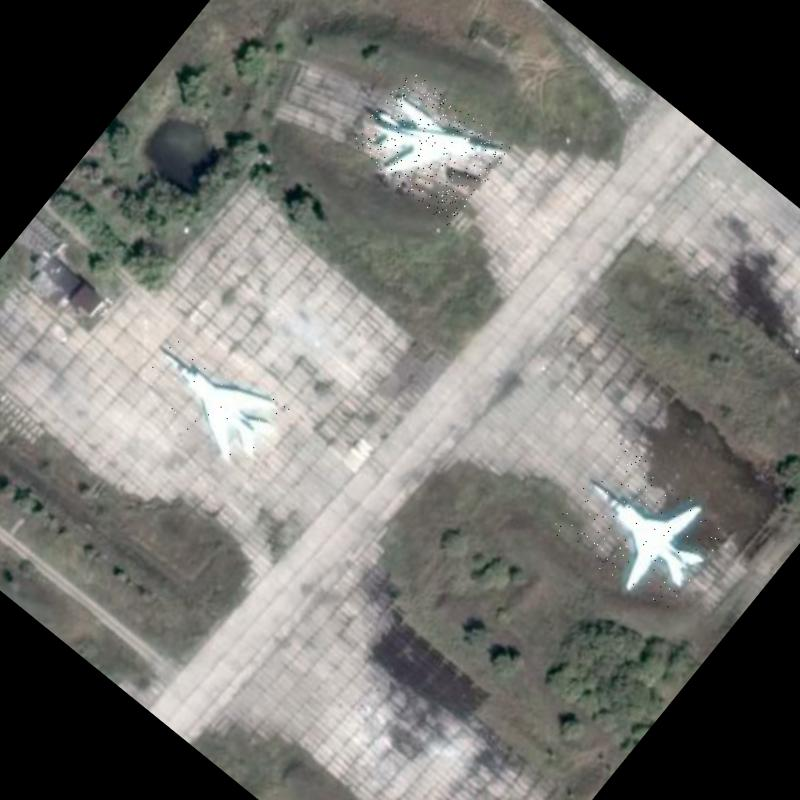A12: (548, 439, 731, 619), (346, 67, 512, 227), (131, 324, 291, 476)
